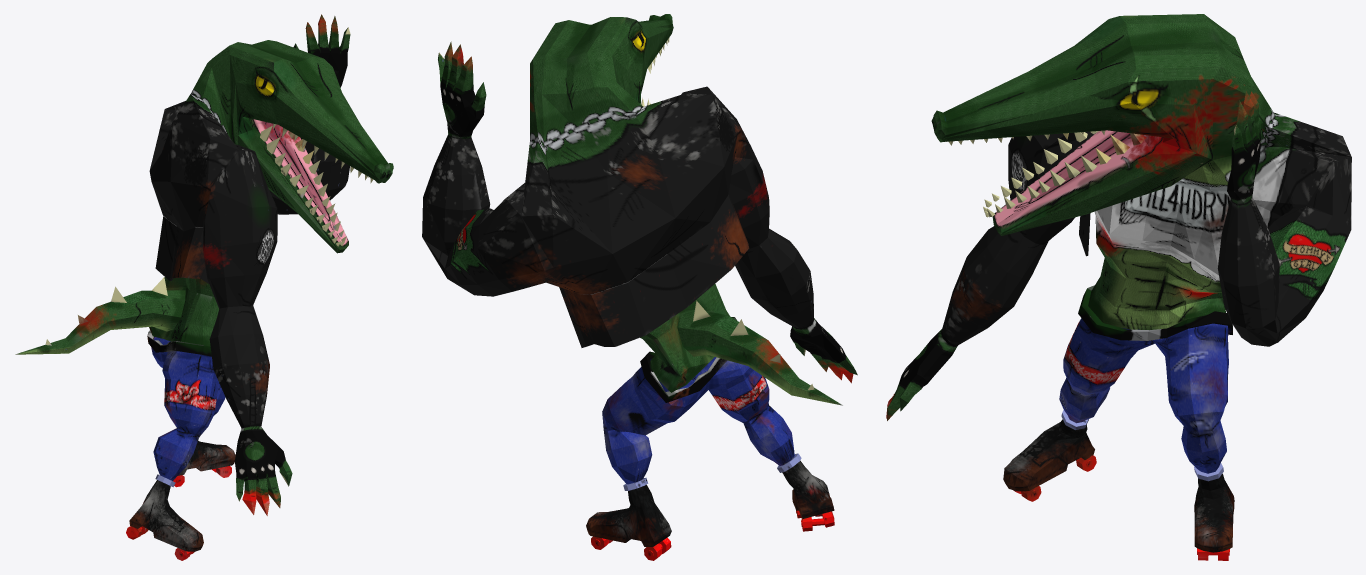
Rendered from cocodrilaBonesSelect_000032.obj.
3 views of the same model, side by side, from view 1: azimuth 30°, elevation 25°; view 2: azimuth 150°, elevation 25°; view 3: azimuth 270°, elevation 25° (orthographic). The views are drawn at different scales.
Parts seen in each view (by area): view 1: Crocodile.002_Cylinder.002; view 2: Crocodile.002_Cylinder.002; view 3: Crocodile.002_Cylinder.002.
Boxes of the visible parts, x1,y1,x2,y2 form: Crocodile.002_Cylinder.002: (15,14,393,560); Crocodile.002_Cylinder.002: (422,14,857,560); Crocodile.002_Cylinder.002: (886,14,1351,560).
Size of the model in its own units: 5.22 by 6.2 by 4.69.
